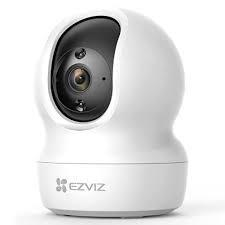maru: (32, 4, 198, 148)
